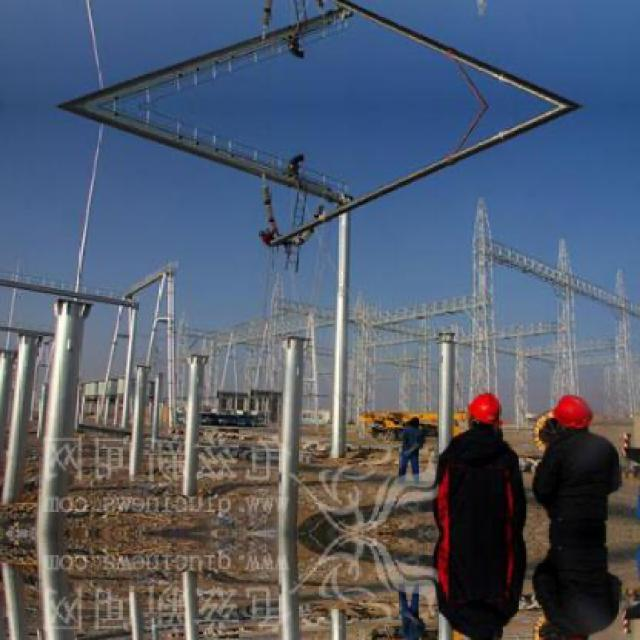helmet: (548, 393, 592, 438), (466, 392, 502, 432), (548, 629, 594, 639)
